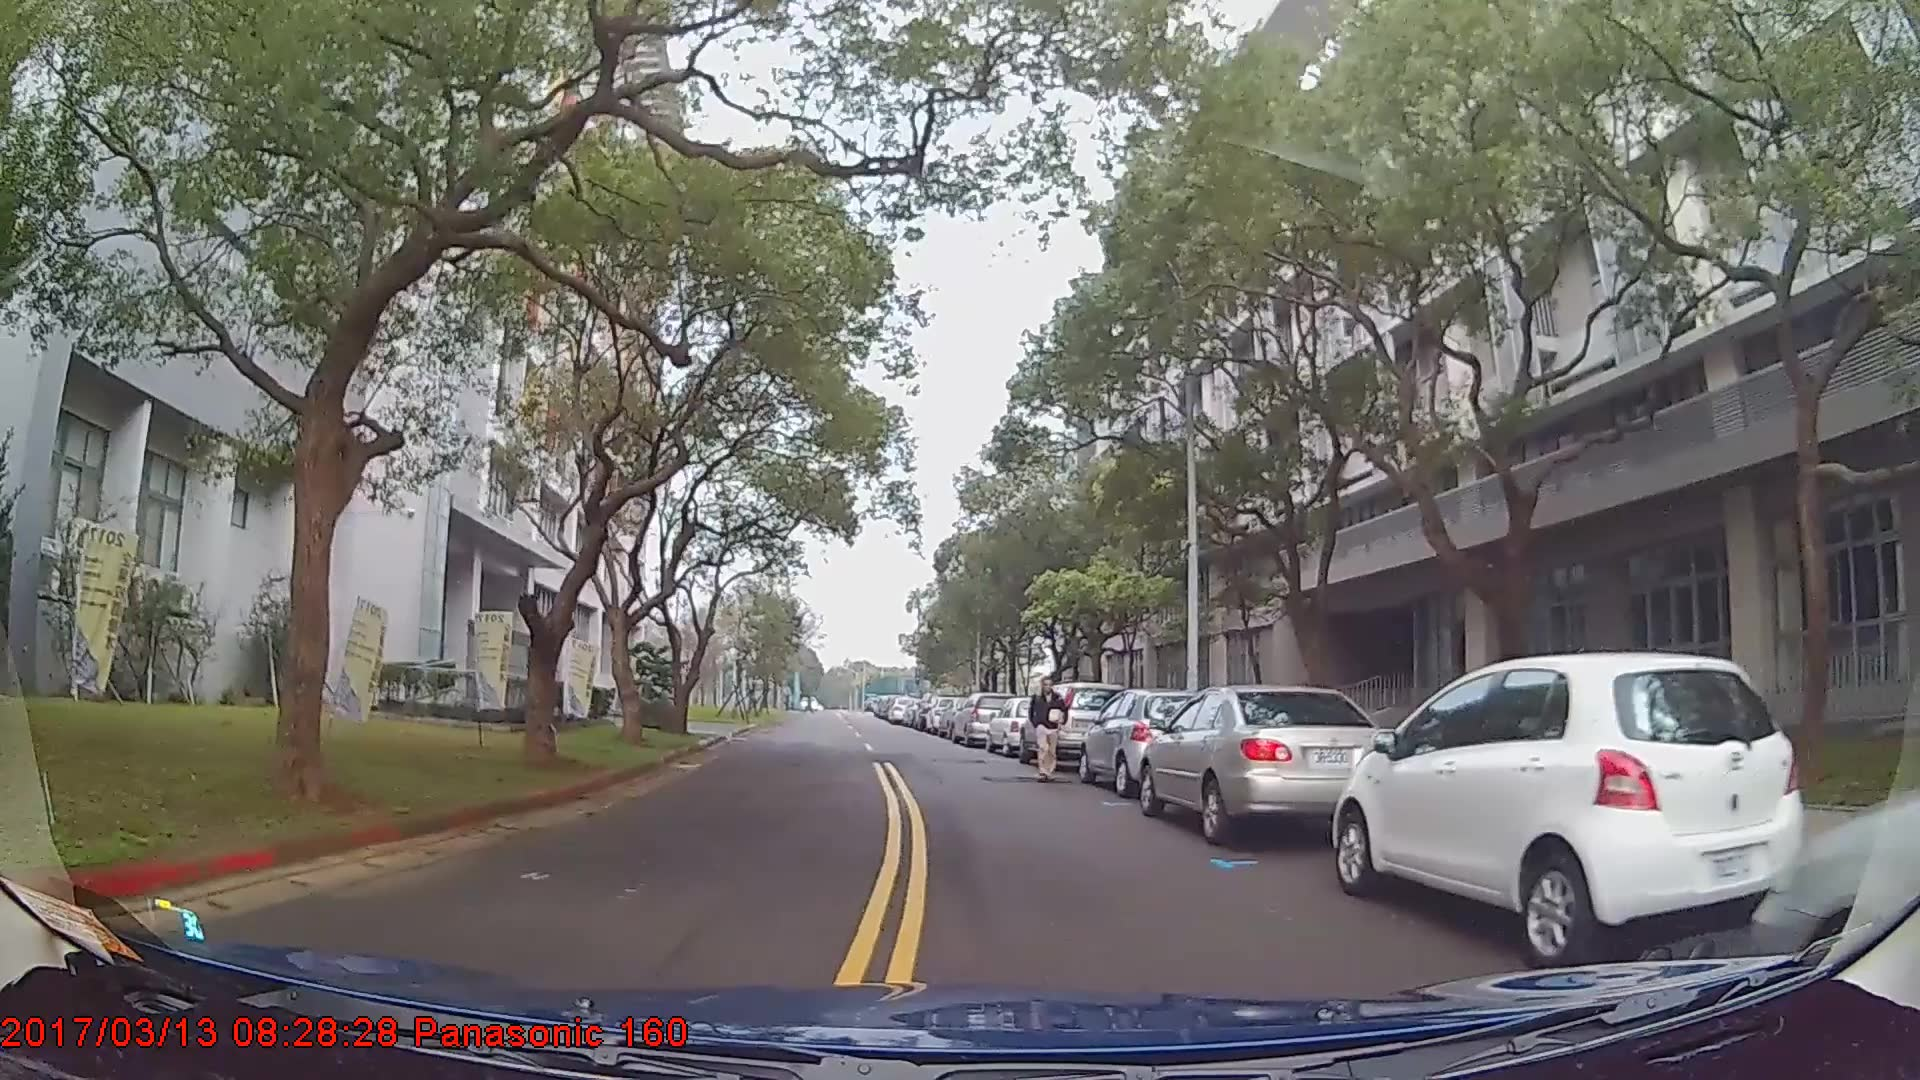pedestrian: (1031, 676, 1069, 784)
vehicle: (1328, 649, 1805, 972), (1138, 680, 1398, 842), (1078, 685, 1219, 795), (1015, 679, 1127, 773), (985, 692, 1053, 756), (952, 689, 1019, 745)
